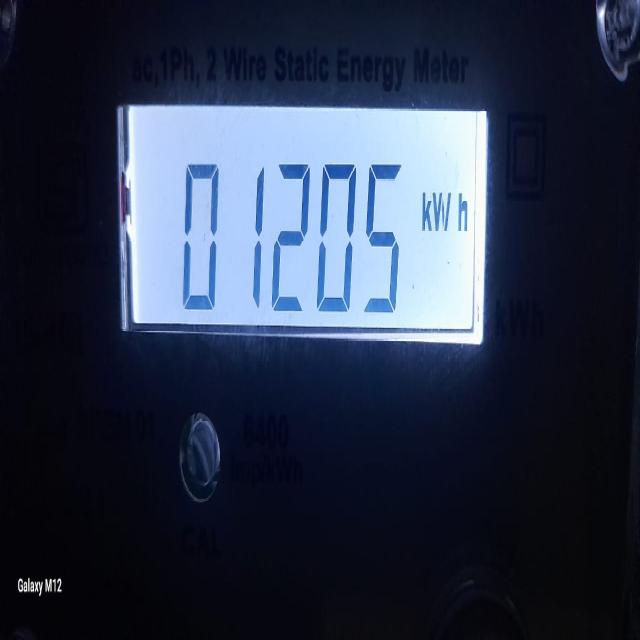display: (112, 96, 480, 344)
